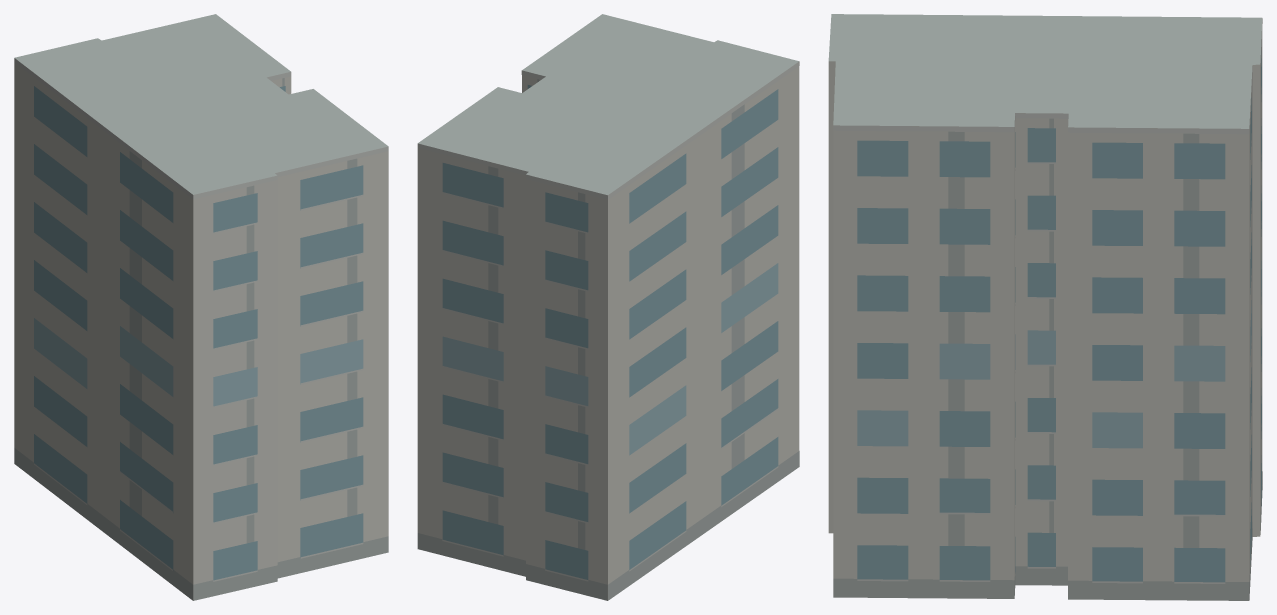
The model's file is survey-upis-32659748.glb.
The picture shows the model from 3 angles, left to right: view 1: azimuth 30°, elevation 25°; view 2: azimuth 150°, elevation 25°; view 3: azimuth 270°, elevation 25°; orthographic projection. The views are drawn at different scales.
Parts seen in each view (by area): view 1: survey-upis-32659748.tmp; view 2: survey-upis-32659748.tmp; view 3: survey-upis-32659748.tmp.
Part boxes in pixels (left/top/right/bottom): survey-upis-32659748.tmp: left=14, top=14, right=388, bottom=600; survey-upis-32659748.tmp: left=417, top=14, right=799, bottom=600; survey-upis-32659748.tmp: left=828, top=14, right=1262, bottom=600.
Bounding box in the file's own units: 11.15 × 21.35 × 17.79.
